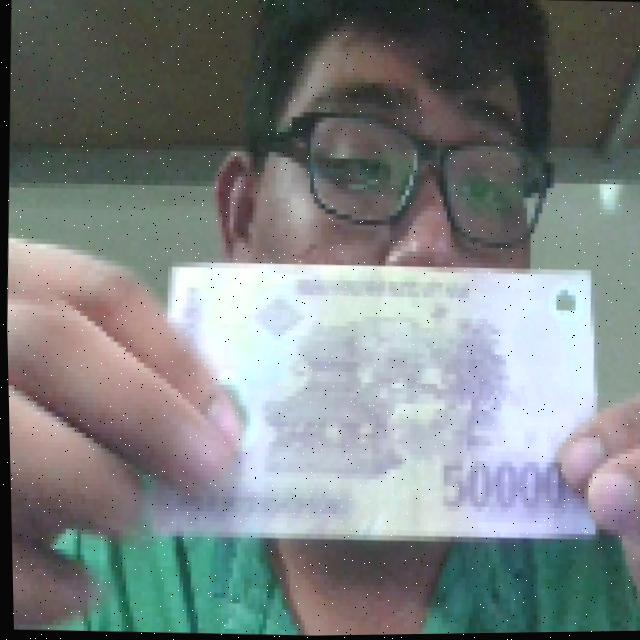50 000 VND: (129, 246, 610, 557)
